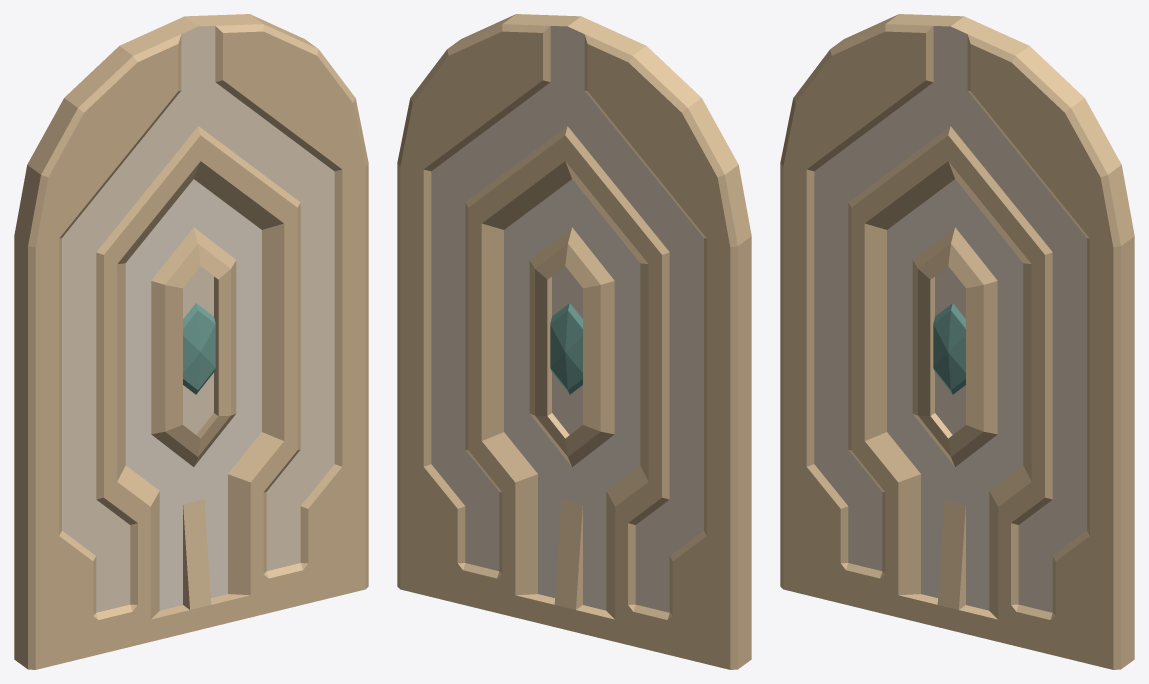
The model's file is Wall_Straight_Door_Large_Pocket.glb.
The picture shows the model from 3 angles, left to right: view 1: azimuth 30°, elevation 25°; view 2: azimuth 150°, elevation 25°; view 3: azimuth 330°, elevation 25°; orthographic projection.
Visible parts, largest first — view 1: Wall_Straight_Door_Large_Pocket; view 2: Wall_Straight_Door_Large_Pocket; view 3: Wall_Straight_Door_Large_Pocket.
Part boxes in pixels (x1=…): Wall_Straight_Door_Large_Pocket: x1=14, y1=14, x2=368, y2=669; Wall_Straight_Door_Large_Pocket: x1=397, y1=14, x2=751, y2=669; Wall_Straight_Door_Large_Pocket: x1=780, y1=14, x2=1134, y2=669.
Bounding box in the file's own units: 1.6 × 2.7 × 0.15.
